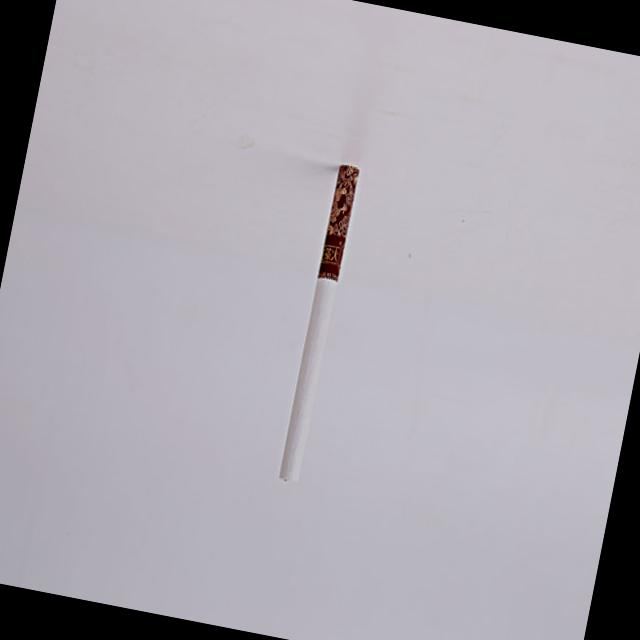smoke: (276, 160, 361, 484)
